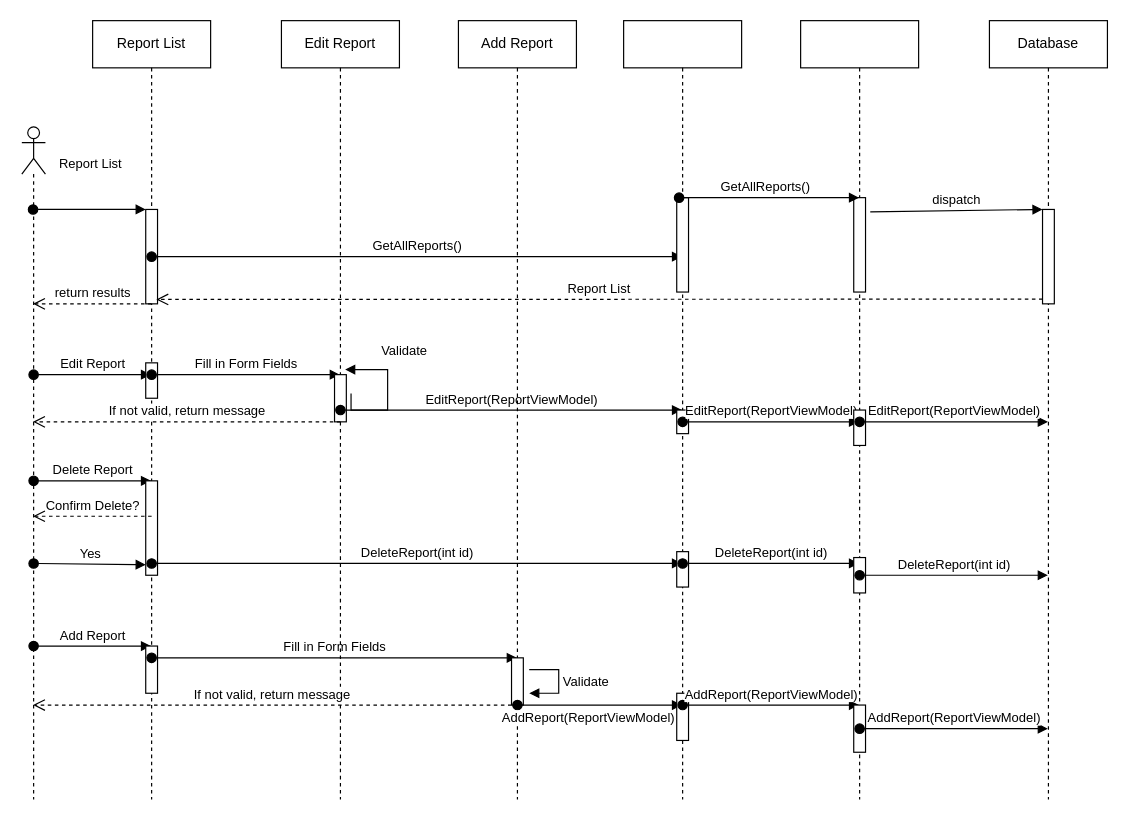
Some shapes in this 1128 by 820 pixel diagram are drawn without their labels. The shapes that lost their labels are listed below. From the top down, each one's centre as x and y in pixels, then its label:
point 682,409: ReportBLL
point 859,409: ReportDAL
